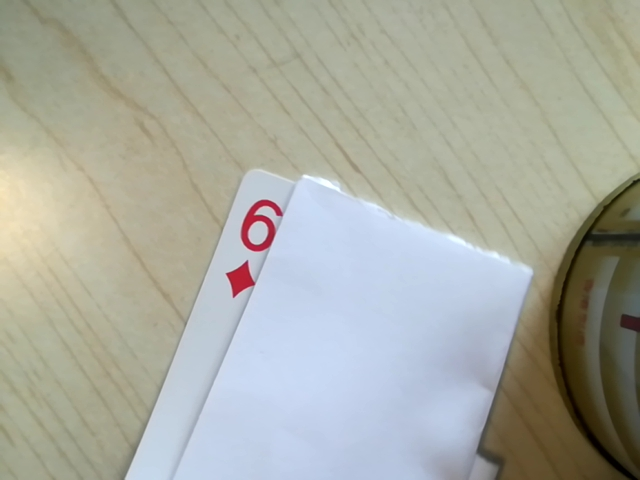fk 6: (222, 194, 290, 302)
